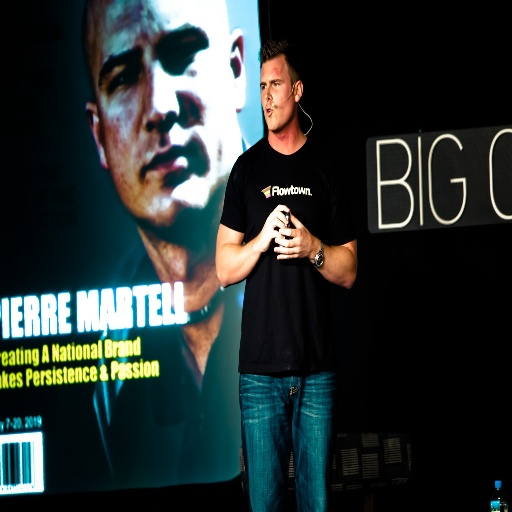hand: (258, 201, 290, 254)
